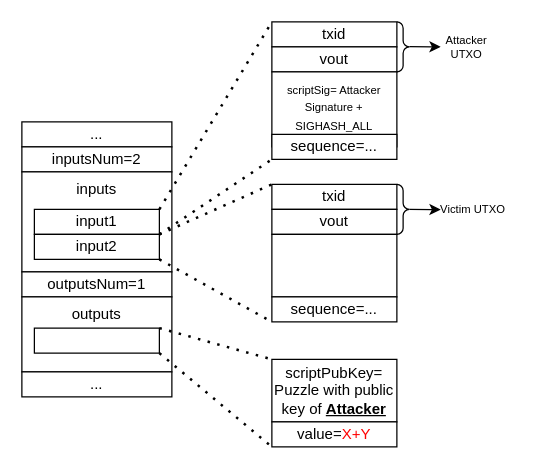
The diagram is 533 pixels wide and 471 high, and some of its shapes have lost their labels. Here are the shapes that lost their labels. From the top down, the centre of each, then its label:
At point (334, 265): "scriptSig= 88cf....2cb4 + SIGASH_SINGLE".
At point (96, 340): "output1".
